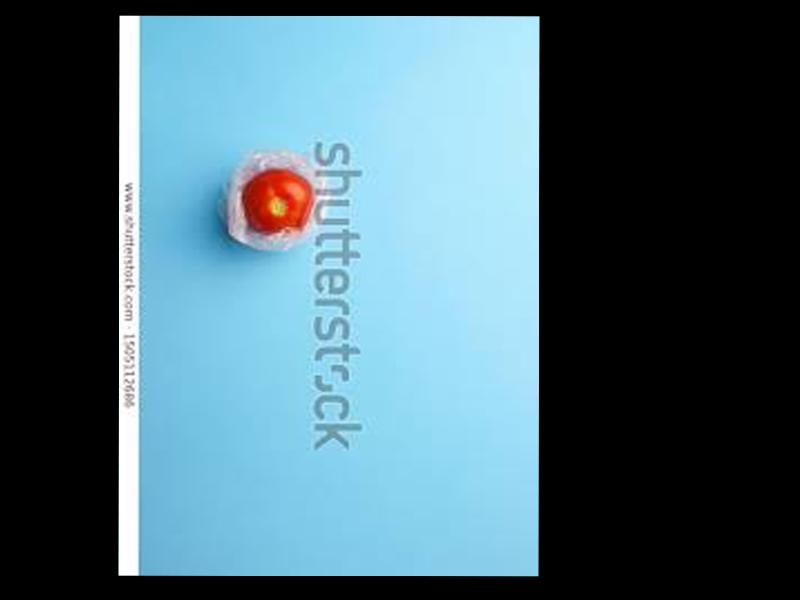Tomato: (243, 170, 313, 235)
